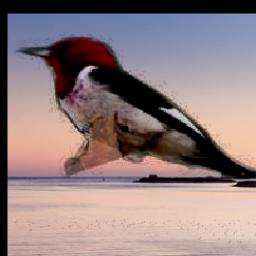Woodpecker: (13, 34, 256, 179)
